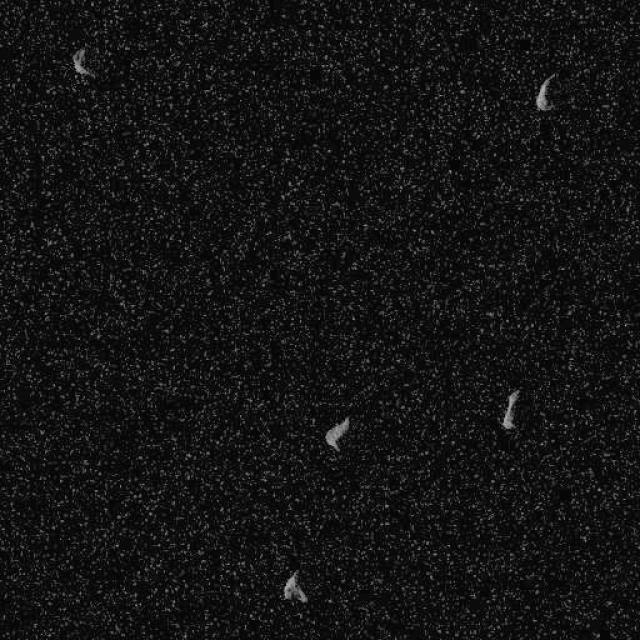D2: (324, 415, 350, 451), (282, 568, 308, 604), (500, 388, 521, 430), (534, 71, 556, 111), (70, 46, 95, 79)
